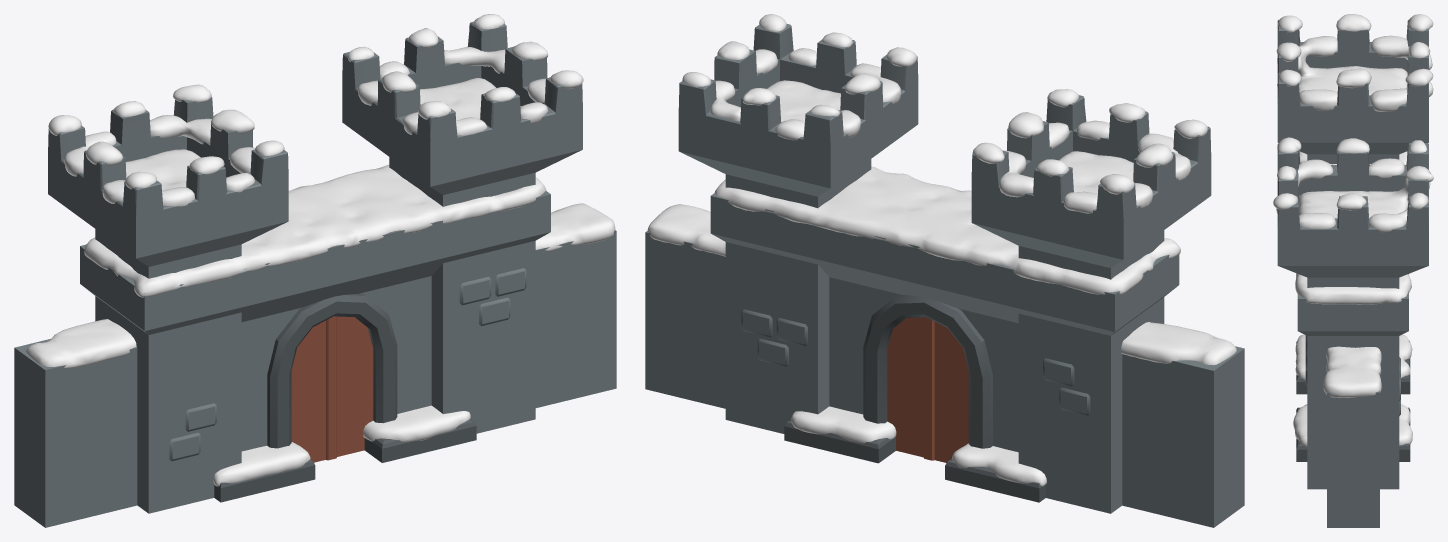
The model's file is wall_gate_closed.fbx.
3 views of the same model, side by side, from view 1: azimuth 30°, elevation 25°; view 2: azimuth 150°, elevation 25°; view 3: azimuth 270°, elevation 25° (orthographic). The views are drawn at different scales.
Parts seen in each view (by area): view 1: wall_gate_closed, wall_gate_closed.006, wall_gate_closed.005, wall_gate_closed.012, wall_gate_closed.001, wall_gate_closed.002, SnowBall.013, SnowBall.006, wall_gate_closed.007, SnowBall.007, wall_gate_closed.008, SnowBall.001 (+10 smaller); view 2: wall_gate_closed, wall_gate_closed.006, wall_gate_closed.005, wall_gate_closed.012, wall_gate_closed.001, wall_gate_closed.002, SnowBall.013, SnowBall.006, wall_gate_closed.010, SnowBall.007, wall_gate_closed.008, SnowBall.001 (+10 smaller); view 3: wall_gate_closed.006, wall_gate_closed.005, SnowBall.006, wall_gate_closed.002, wall_gate_closed, SnowBall.007, wall_gate_closed.012, SnowBall.001, SnowBall.013, SnowBall.004, SnowBall.005, wall_gate_closed.003 (+2 smaller).
Part boxes in pixels (x1,y1,x2,y2): wall_gate_closed: (14, 230, 616, 527); wall_gate_closed.006: (342, 21, 582, 194); wall_gate_closed.005: (48, 96, 288, 266); wall_gate_closed.012: (80, 191, 550, 334); wall_gate_closed.001: (95, 229, 241, 513); wall_gate_closed.002: (389, 157, 535, 433); SnowBall.013: (84, 164, 546, 297); SnowBall.006: (48, 84, 284, 206); wall_gate_closed.007: (291, 316, 373, 462); SnowBall.007: (348, 14, 583, 135); wall_gate_closed.008: (267, 293, 397, 448); SnowBall.001: (26, 203, 615, 368); wall_gate_closed: (645, 230, 1244, 527); wall_gate_closed.006: (678, 24, 918, 196); wall_gate_closed.005: (971, 95, 1211, 267); wall_gate_closed.012: (710, 193, 1179, 335); wall_gate_closed.001: (1018, 230, 1164, 513); wall_gate_closed.002: (725, 159, 871, 433); SnowBall.013: (714, 166, 1180, 294); SnowBall.006: (972, 89, 1207, 213); wall_gate_closed.010: (887, 317, 968, 462); SnowBall.007: (682, 14, 917, 140); wall_gate_closed.008: (863, 294, 992, 448); SnowBall.001: (647, 204, 1236, 365); wall_gate_closed.006: (1277, 143, 1428, 277); wall_gate_closed.005: (1277, 19, 1428, 154); SnowBall.006: (1276, 14, 1433, 111); wall_gate_closed.002: (1307, 277, 1399, 489); wall_gate_closed: (1327, 356, 1379, 527); SnowBall.007: (1273, 137, 1433, 232); wall_gate_closed.012: (1297, 274, 1408, 335); SnowBall.001: (1323, 346, 1381, 398); SnowBall.013: (1295, 151, 1411, 304); SnowBall.004: (1293, 404, 1412, 447); SnowBall.005: (1295, 334, 1412, 380); wall_gate_closed.003: (1296, 407, 1410, 461).
Bounding box in the file's own units: 202 × 118 × 56.69.
